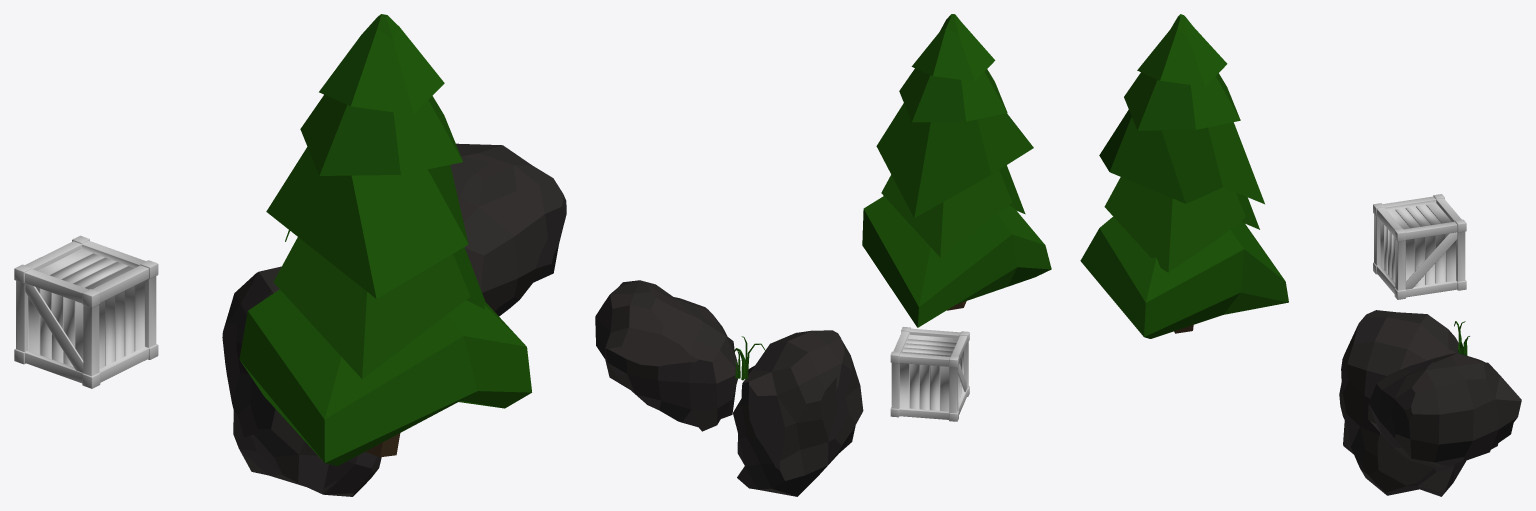
File: Nature.obj
3 views of the same model, side by side, from view 1: azimuth 30°, elevation 25°; view 2: azimuth 150°, elevation 25°; view 3: azimuth 270°, elevation 25° (orthographic). The views are drawn at different scales.
Parts seen in each view (by area): view 1: Circle, Circle.002, Cartoon_wooden_crate, Circle.001, Procedural_Low_Poly_Rock.001, Procedural_Low_Poly_Rock, Circle.003, Circle.004; view 2: Procedural_Low_Poly_Rock, Procedural_Low_Poly_Rock.001, Circle, Circle.002, Cartoon_wooden_crate, Circle.001, Circle.003, Circle.004; view 3: Circle, Procedural_Low_Poly_Rock.001, Procedural_Low_Poly_Rock, Circle.002, Cartoon_wooden_crate, Circle.001, Circle.003, Circle.004.
Part boxes in pixels (x1,y1,x2,y2): Circle: (239, 289, 531, 466); Circle.002: (266, 147, 468, 298); Cartoon_wooden_crate: (14, 235, 158, 388); Circle.001: (273, 237, 487, 378); Procedural_Low_Poly_Rock.001: (450, 143, 566, 316); Procedural_Low_Poly_Rock: (222, 266, 381, 496); Circle.003: (300, 94, 462, 175); Circle.004: (319, 14, 444, 114); Procedural_Low_Poly_Rock: (733, 330, 863, 496); Procedural_Low_Poly_Rock.001: (595, 280, 738, 431); Circle: (862, 196, 1051, 327); Circle.002: (876, 103, 1033, 218); Cartoon_wooden_crate: (890, 327, 969, 421); Circle.001: (881, 165, 1025, 257); Circle.003: (899, 68, 1007, 122); Circle.004: (911, 14, 995, 81); Circle: (1080, 216, 1288, 338); Procedural_Low_Poly_Rock.001: (1367, 353, 1521, 467); Procedural_Low_Poly_Rock: (1339, 310, 1465, 496); Circle.002: (1099, 109, 1264, 204); Cartoon_wooden_crate: (1373, 194, 1466, 299); Circle.001: (1104, 177, 1259, 272); Circle.003: (1124, 72, 1240, 130); Circle.004: (1137, 14, 1227, 86).
Size of what is drawn, in the model's own units: 4.94 by 5.44 by 4.93.
